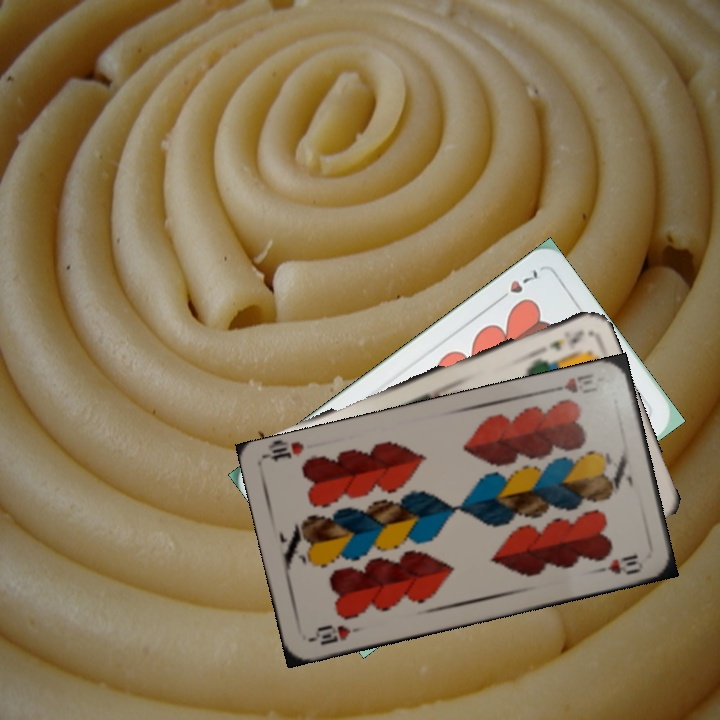EK: (545, 326, 587, 353)
H10: (307, 621, 366, 648), (546, 369, 600, 397)
H7: (493, 266, 541, 306)
